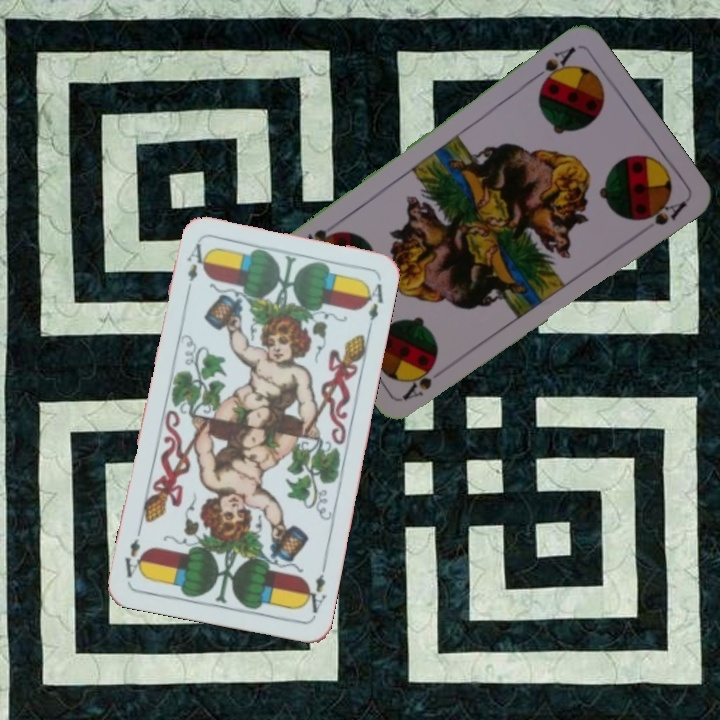EA: (299, 559, 329, 616), (182, 239, 205, 298)
SA: (527, 42, 579, 92), (399, 362, 451, 402)
